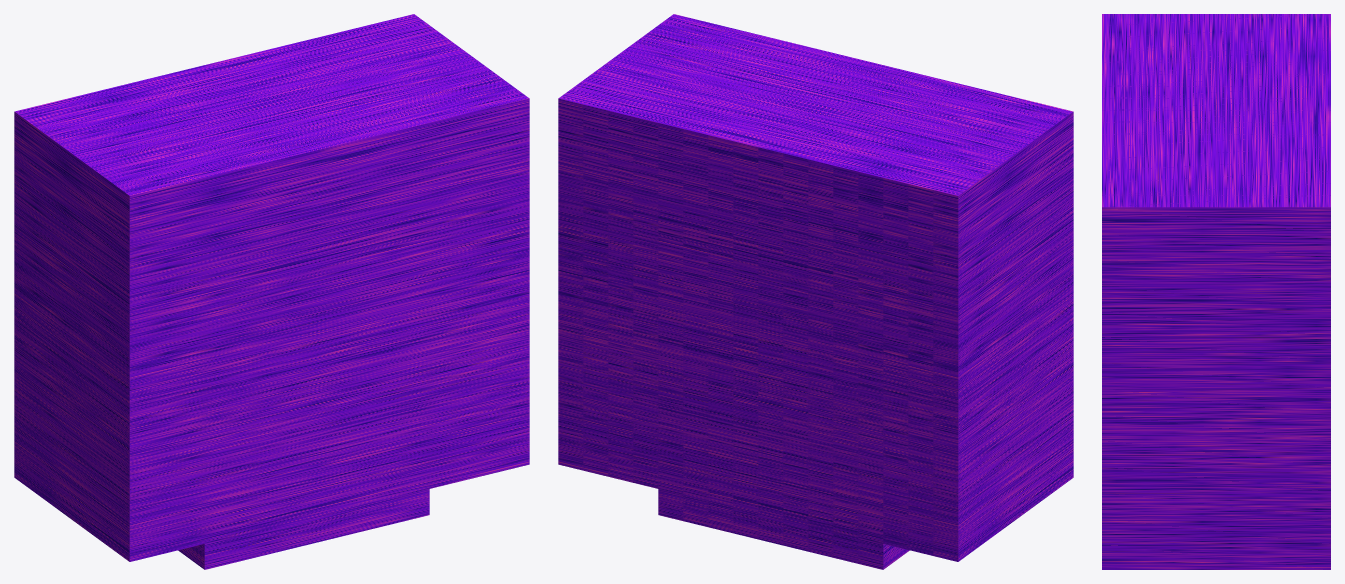
File: tier0_piece_21.obj
3 views of the same model, side by side, from view 1: azimuth 30°, elevation 25°; view 2: azimuth 150°, elevation 25°; view 3: azimuth 270°, elevation 25° (orthographic).
Visible parts, largest first — view 1: tier0_piece_21; view 2: tier0_piece_21; view 3: tier0_piece_21.
Part boxes in pixels (x1,y1,x2,y2): tier0_piece_21: (14, 14, 529, 569); tier0_piece_21: (558, 14, 1073, 569); tier0_piece_21: (1102, 14, 1330, 569).
Size of the model in its own units: 1 by 0.9375 by 0.5.
